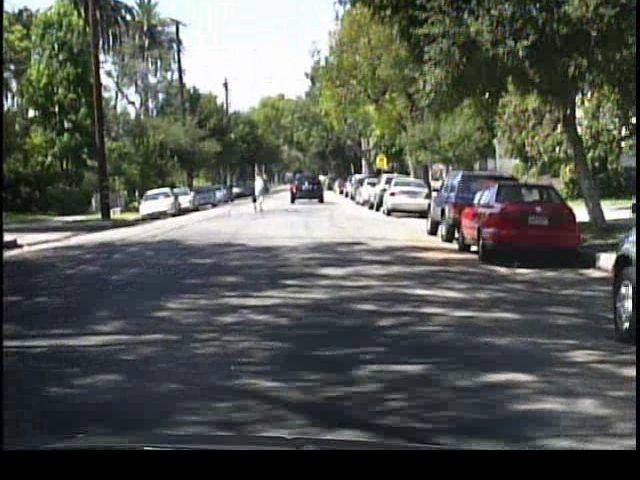person: (248, 184, 273, 230)
